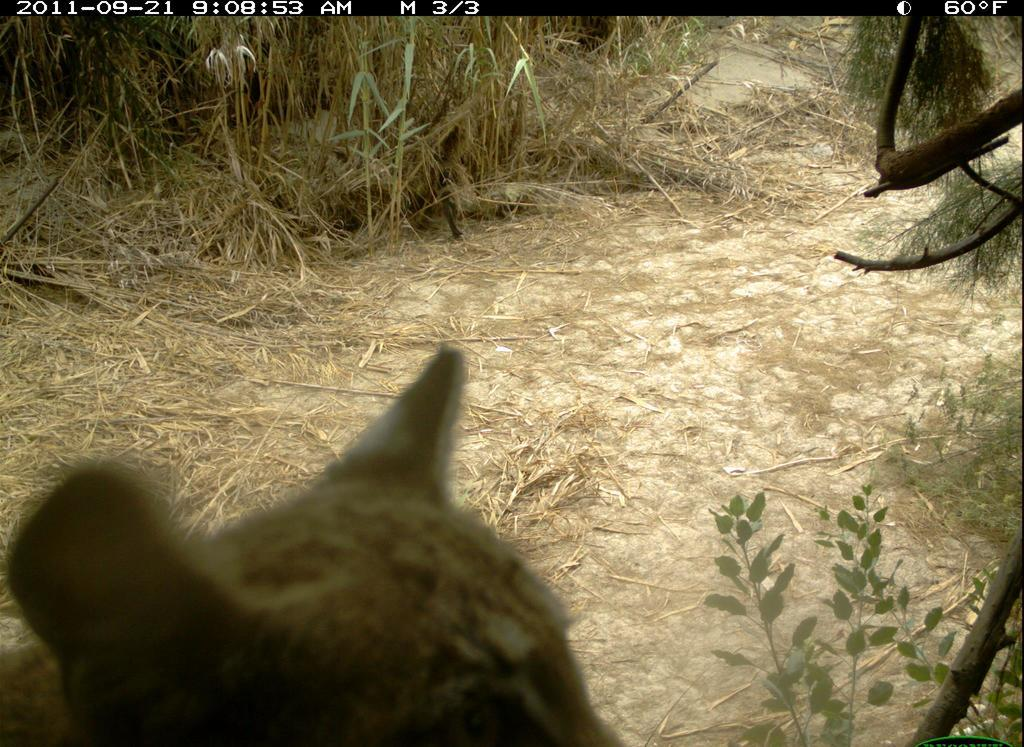bobcat: (2, 338, 637, 743)
